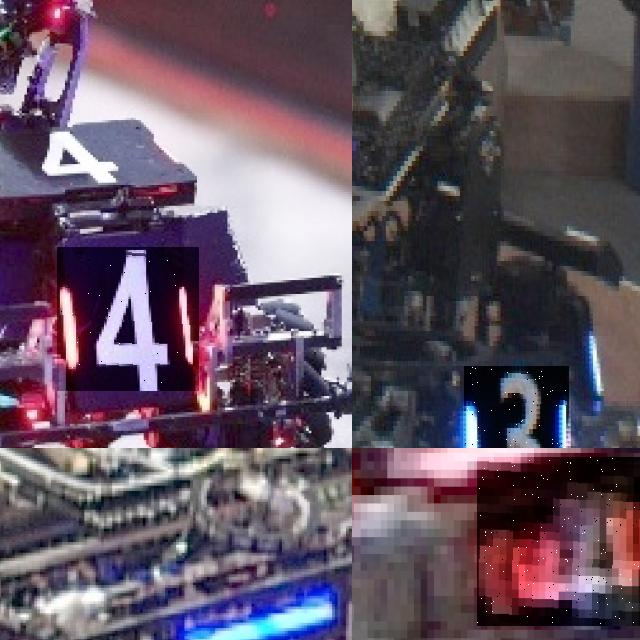B3: (463, 366, 569, 448)
R3: (477, 457, 640, 625)
R4: (58, 248, 200, 392)
